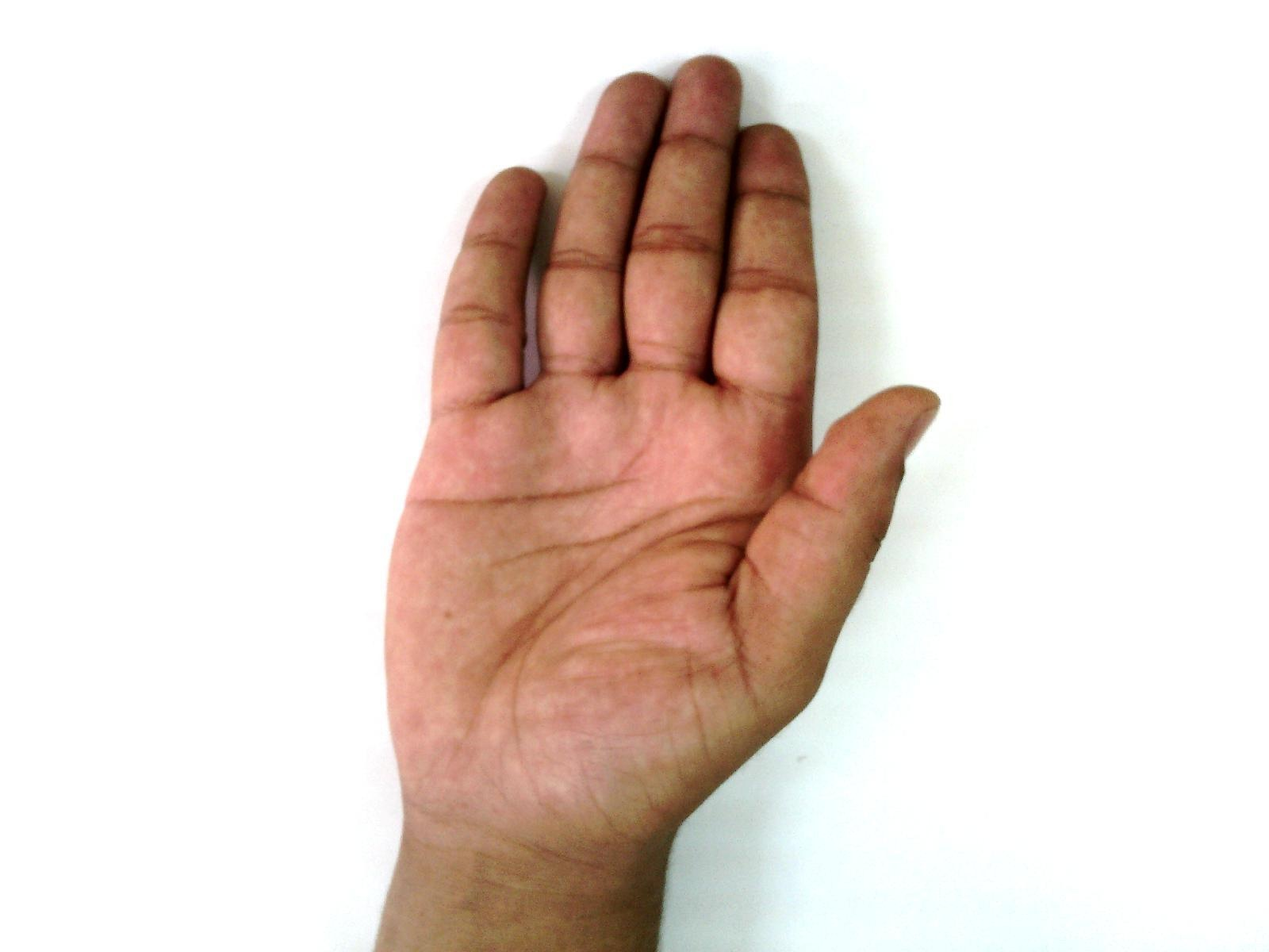open_palm: (378, 56, 944, 852)
